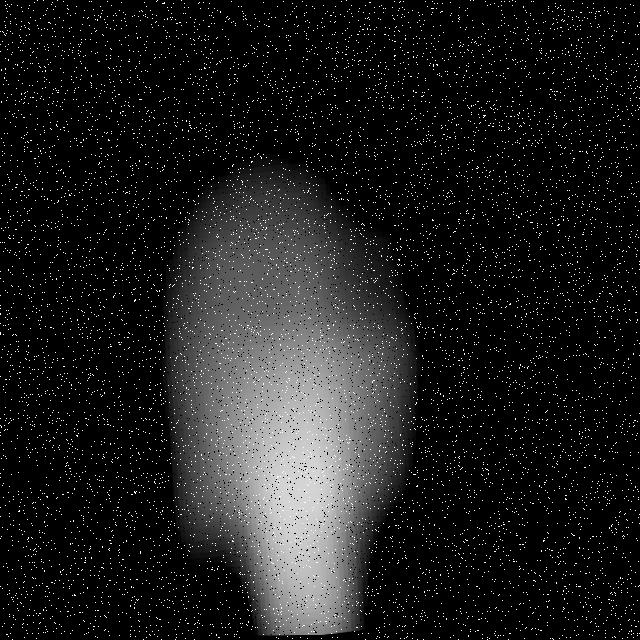person: (112, 108, 474, 640)
